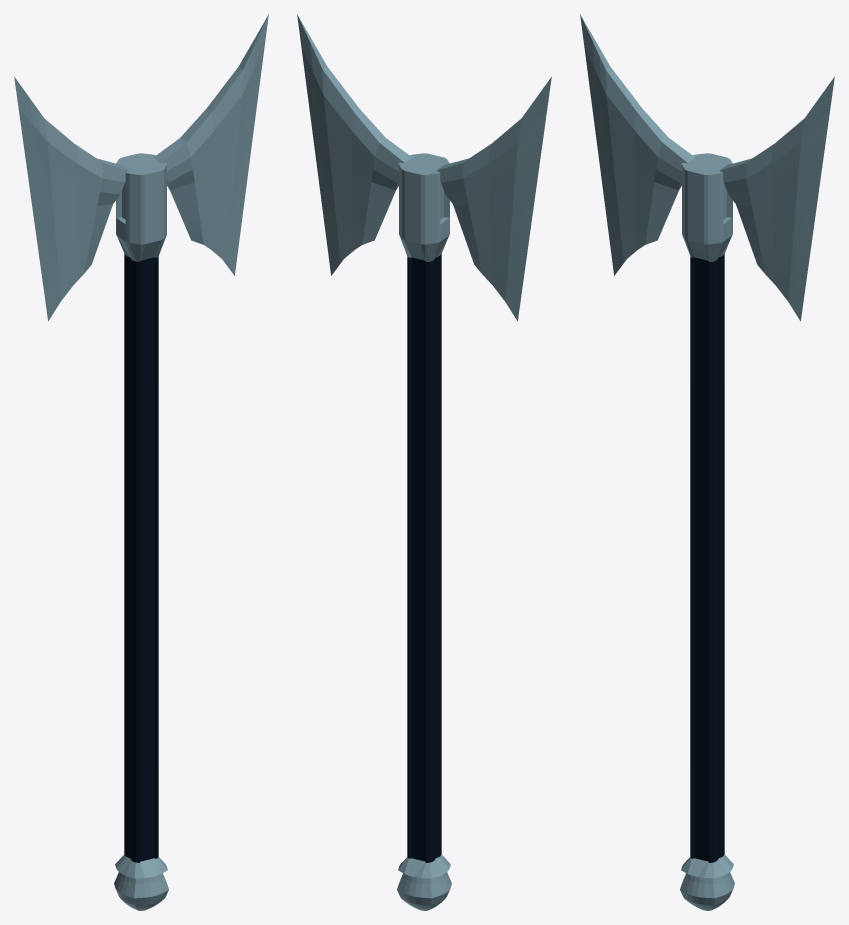
Rendered from Greataxe_mk_1.fbx.
3 views of the same model, side by side, from view 1: azimuth 30°, elevation 25°; view 2: azimuth 150°, elevation 25°; view 3: azimuth 330°, elevation 25° (orthographic).
Parts seen in each view (by area): view 1: Axe_mk_1; view 2: Axe_mk_1; view 3: Axe_mk_1.
Part boxes in pixels (x1,y1,x2,y2): Axe_mk_1: (14, 14, 268, 910); Axe_mk_1: (297, 14, 551, 910); Axe_mk_1: (580, 14, 834, 910).
Bounding box in the file's own units: 43.26 × 7.61 × 140.
